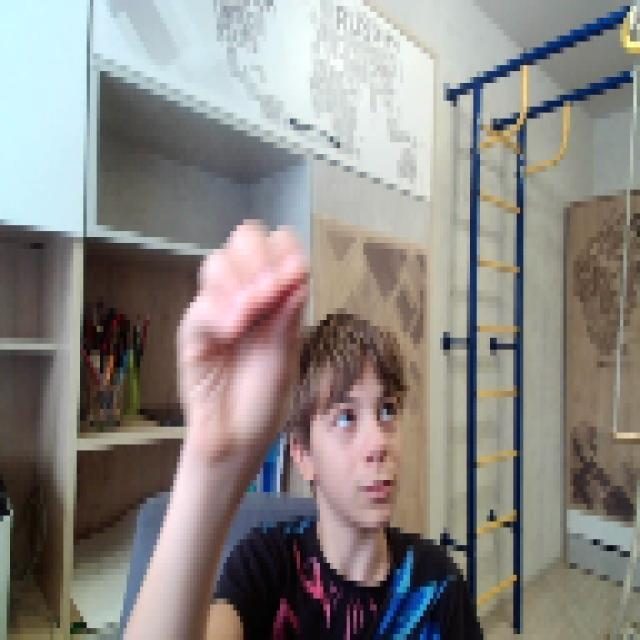left_click: (170, 208, 310, 462)
